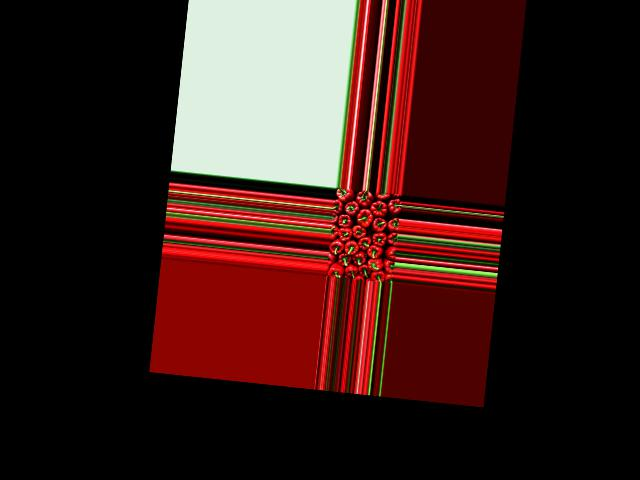bell_pepper: (327, 262, 343, 277)
